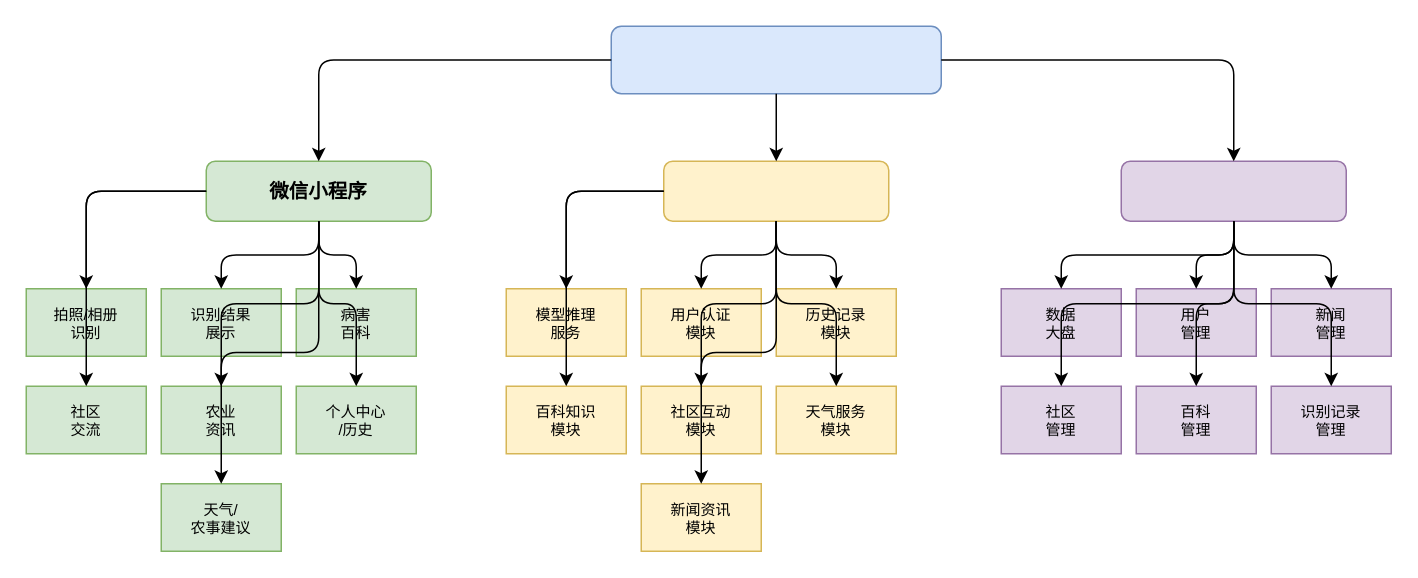
Image size: 1418x578. Some labels were removed from this diagram. Here are the shapes that lost their labels. From the top down, the box of each, then its label:
(610, 25, 941, 94): 农作物病害识别系统
(662, 160, 889, 221): 后端服务
(1120, 160, 1346, 221): Web 管理后台
